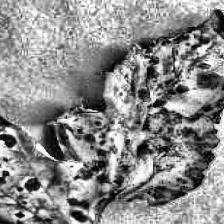Angular Leafspot: (137, 104, 222, 206), (192, 63, 224, 94), (66, 197, 93, 224), (22, 175, 44, 194), (0, 132, 15, 150)
